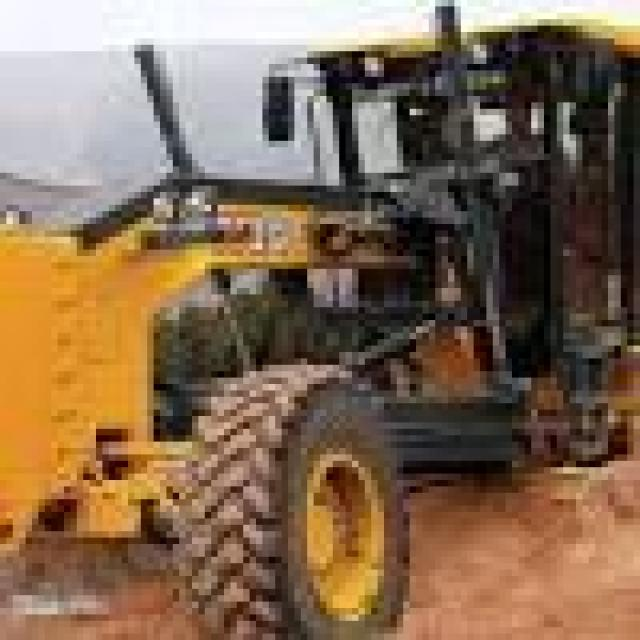buldozerpayloadergrader: (0, 6, 634, 608)
